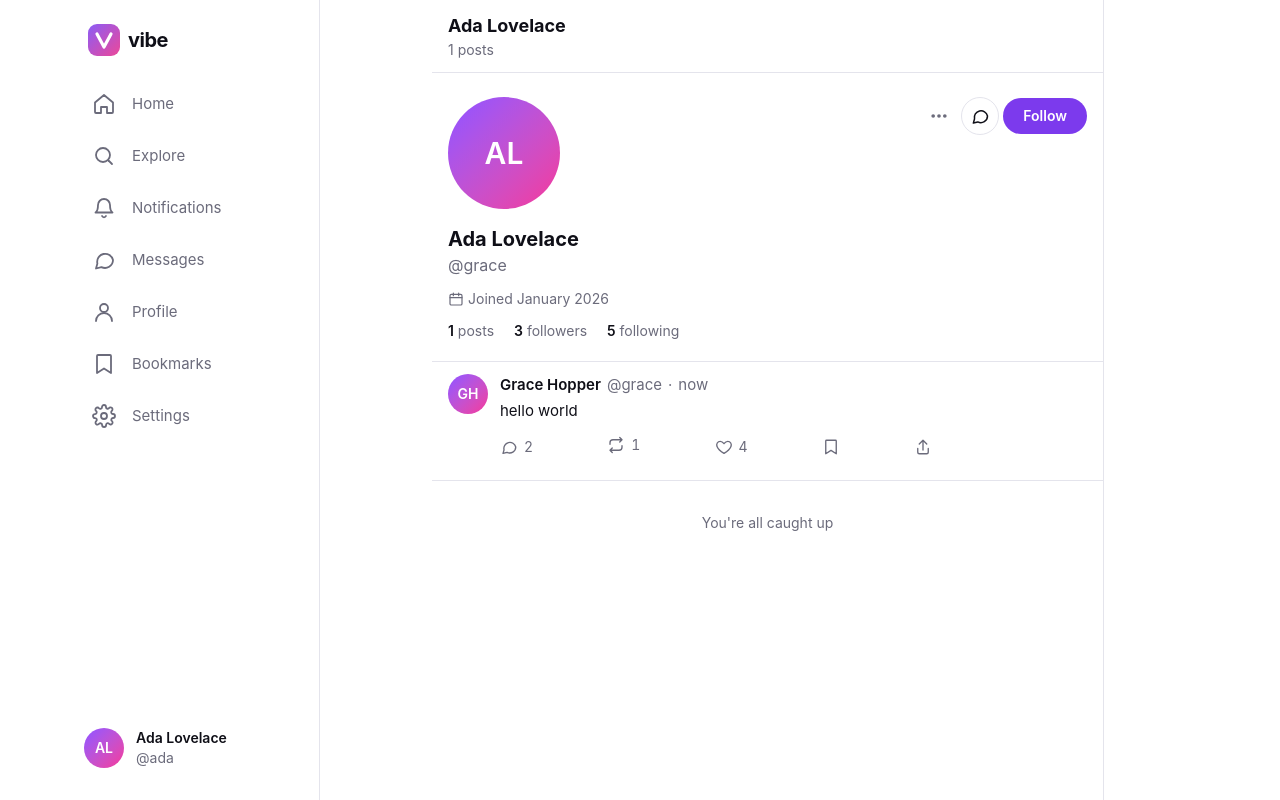
Test: PostCard › likes optimistically, then adopts the server’s count
Click the button named "Like": [731, 447] box [706,431,756,463]
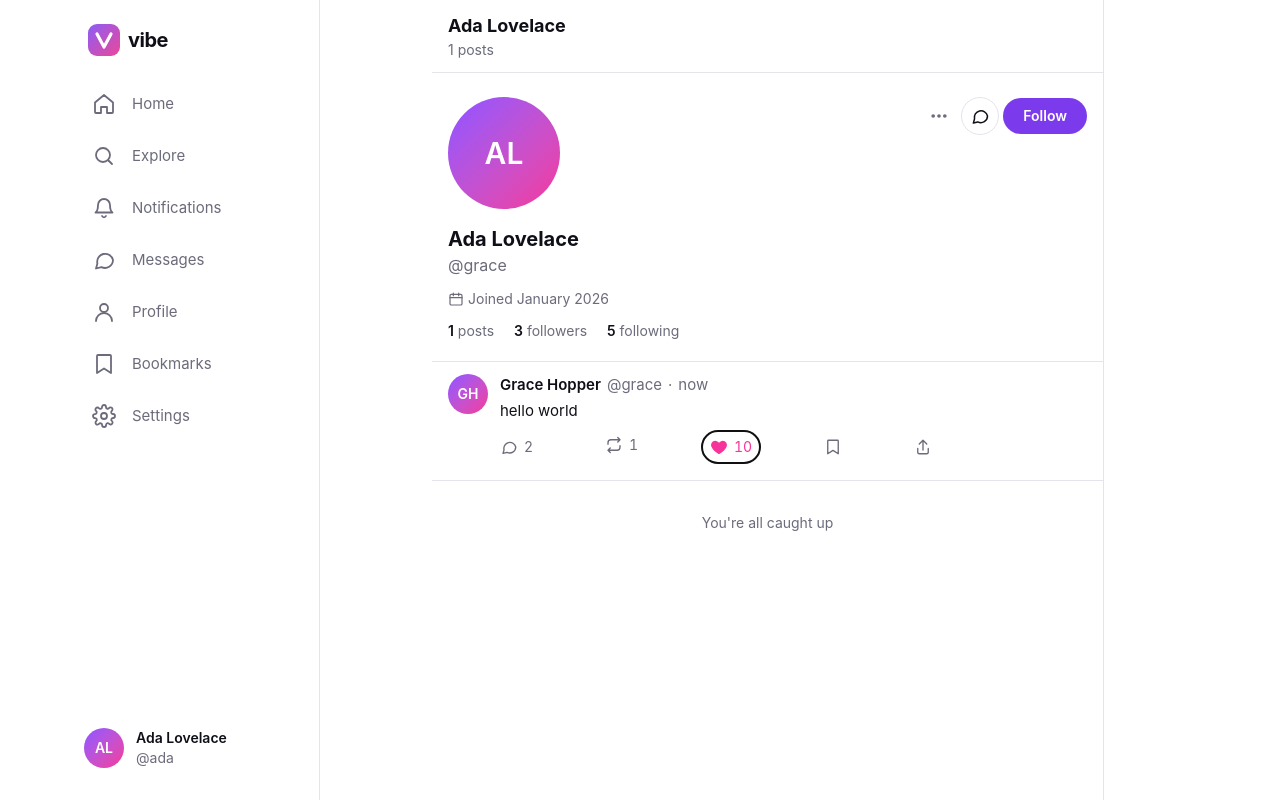
expect the button named "Unlike" reads "10": met, box [702,431,760,463]
